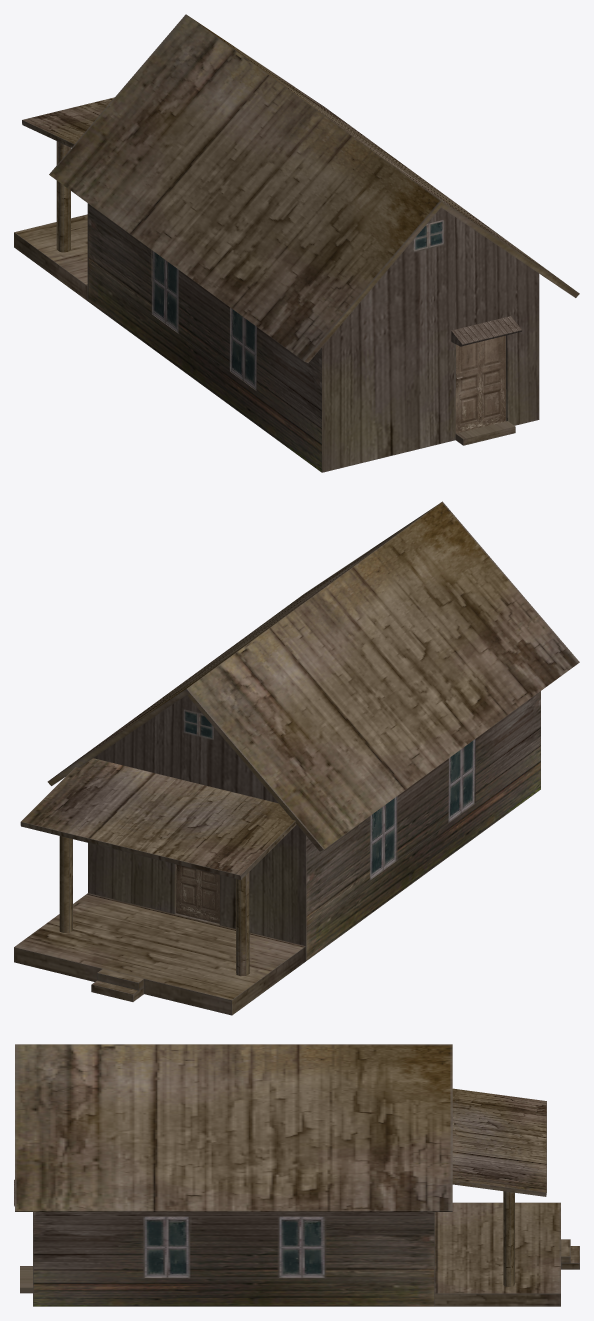
File: farmhouse.obj
The picture shows the model from 3 angles, top to bottom: view 1: azimuth 30°, elevation 25°; view 2: azimuth 150°, elevation 25°; view 3: azimuth 270°, elevation 25°; orthographic projection. The views are drawn at different scales.
Parts seen in each view (by area): view 1: farmhouse; view 2: farmhouse; view 3: farmhouse.
Boxes of the visible parts, x1,y1,x2,y2 form: farmhouse: [14, 14, 579, 472]; farmhouse: [14, 501, 579, 1015]; farmhouse: [14, 1044, 579, 1306].
Bounding box in the file's own units: 24.28 × 21.28 × 50.36.
